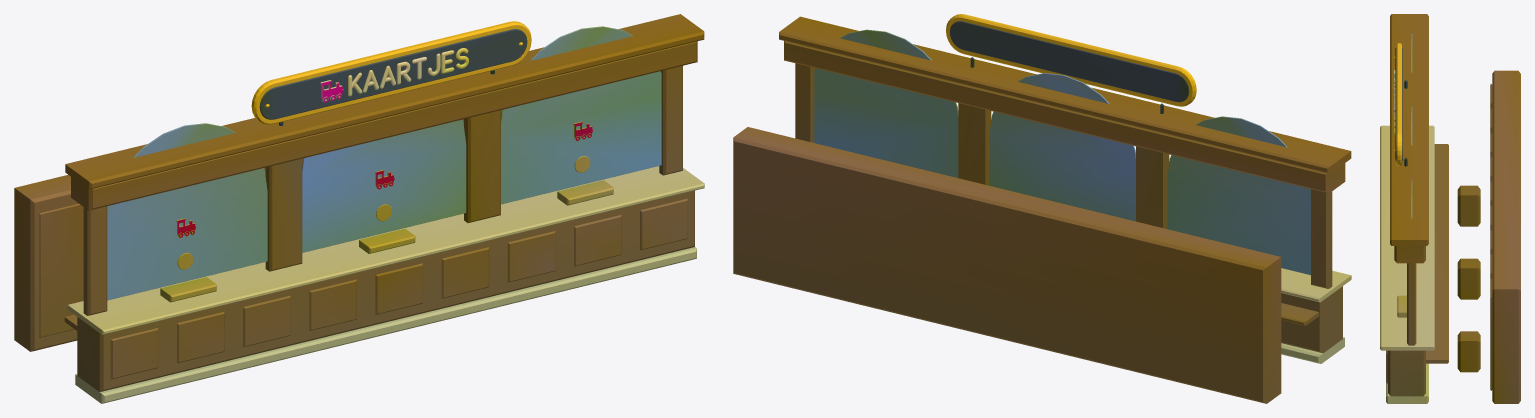
Rendered from GS_TicketCounter.glb.
3 views of the same model, side by side, from view 1: azimuth 30°, elevation 25°; view 2: azimuth 150°, elevation 25°; view 3: azimuth 270°, elevation 25° (orthographic). The views are drawn at different scales.
Visible parts, largest first — view 1: GS_TicketCounter, Sign_Tickets_Text; view 2: GS_TicketCounter; view 3: GS_TicketCounter, Sign_Tickets_Text.
Part boxes in pixels (box(x1,y1,x2,y2)): GS_TicketCounter: box(14, 14, 704, 403); Sign_Tickets_Text: box(348, 48, 468, 96); GS_TicketCounter: box(733, 14, 1351, 403); GS_TicketCounter: box(1380, 14, 1520, 403); Sign_Tickets_Text: box(1393, 80, 1395, 137).
Size of the model in its own units: 9.3 by 3.96 by 2.45.
